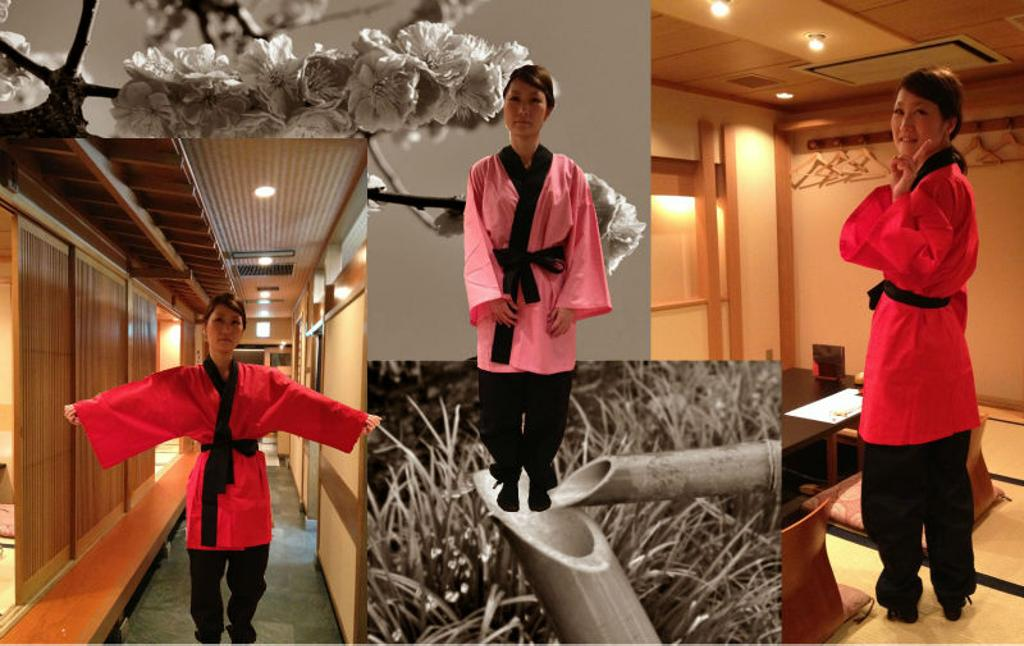face: (891, 93, 943, 158), (502, 82, 543, 136), (207, 306, 242, 352)
